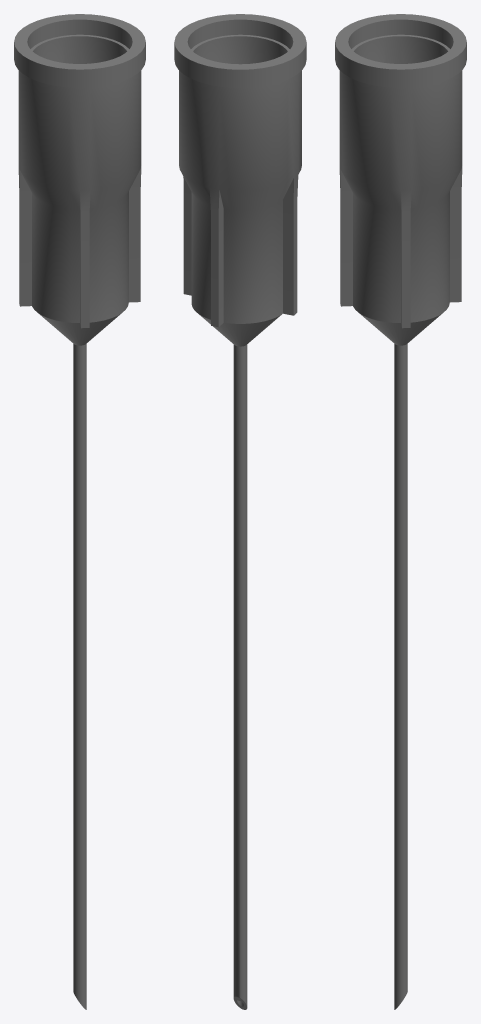
3 views of the same model, side by side, from view 1: azimuth 90°, elevation 25°; view 2: azimuth 150°, elevation 25°; view 3: azimuth 270°, elevation 25° (orthographic).
Parts seen in each view (by area): view 1: needle_1; view 2: needle_1; view 3: needle_1.
Boxes of the visible parts, <box> form: needle_1: <box>14,14,145,1009</box>; needle_1: <box>174,14,306,1009</box>; needle_1: <box>335,14,466,1009</box>.
Size of the model in its own units: 1 by 8.11 by 1.
